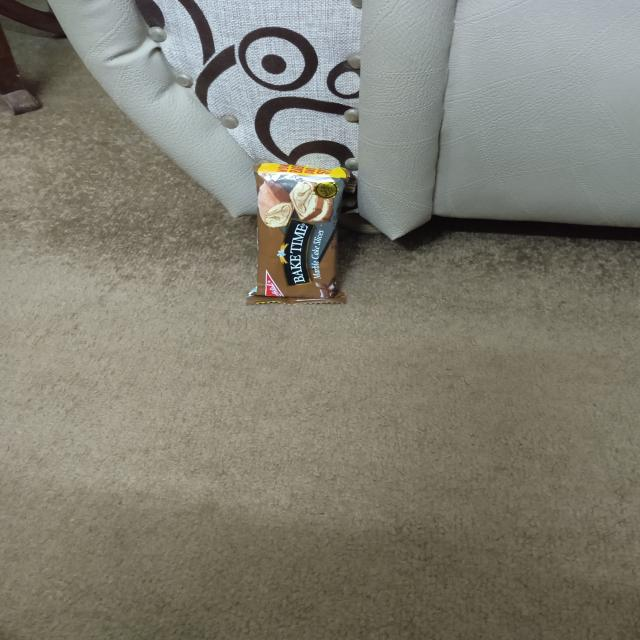Plastic: (250, 164, 351, 304)
